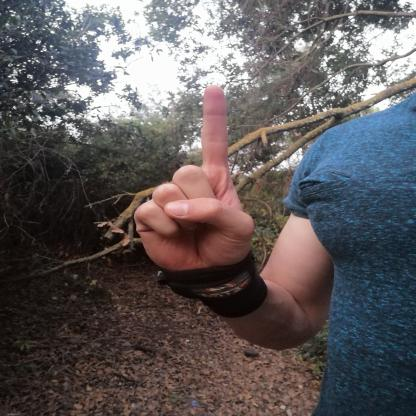BAA: (119, 79, 277, 291)
